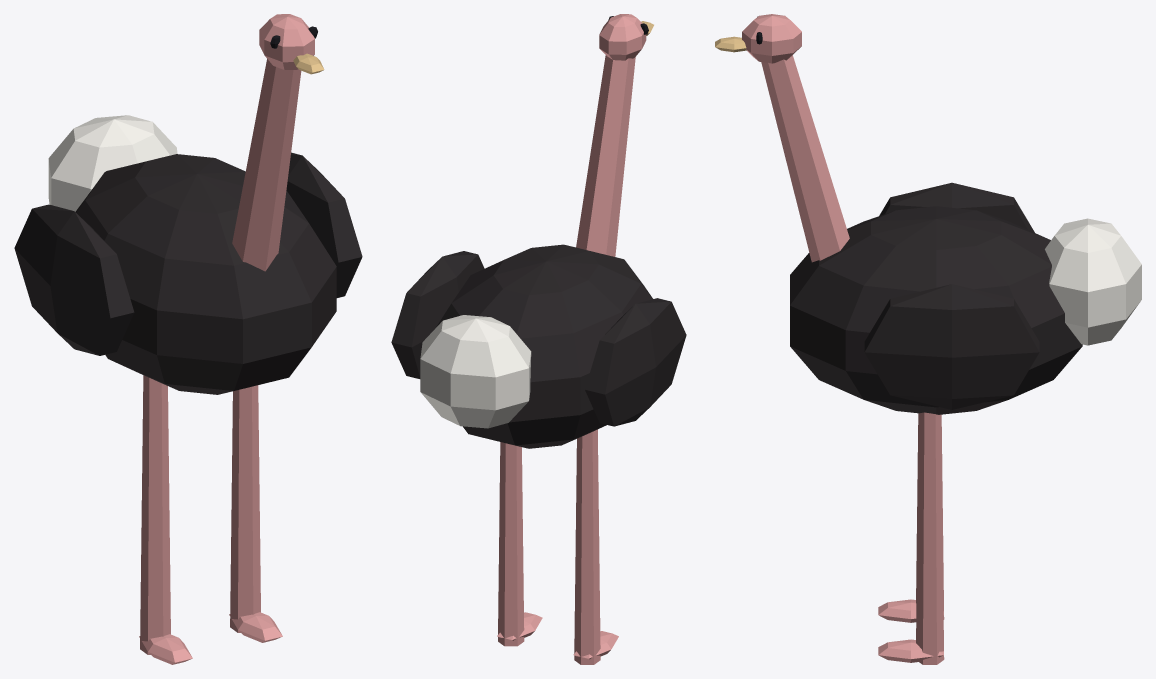
The model's file is animal_avestruz.glb.
3 renders of one model, left to right at view 1: azimuth 30°, elevation 25°; view 2: azimuth 150°, elevation 25°; view 3: azimuth 270°, elevation 25°, orthographic. The views are drawn at different scales.
Parts seen in each view (by area): view 1: body_ostrich_black, legs_ostrich_pink, neck_ostrich_pink, body_ostrich_white, head_ostrich_pink; view 2: body_ostrich_black, legs_ostrich_pink, body_ostrich_white, neck_ostrich_pink, head_ostrich_pink; view 3: body_ostrich_black, body_ostrich_white, legs_ostrich_pink, neck_ostrich_pink, head_ostrich_pink.
Boxes of the visible parts, left/top/right/bottom form: body_ostrich_black: left=14, top=152, right=362, bottom=394; legs_ostrich_pink: left=139, top=375, right=282, bottom=664; neck_ostrich_pink: left=232, top=59, right=301, bottom=271; body_ostrich_white: left=48, top=115, right=177, bottom=211; head_ostrich_pink: left=259, top=14, right=314, bottom=69; body_ostrich_black: left=391, top=244, right=686, bottom=448; legs_ostrich_pink: left=497, top=429, right=618, bottom=664; body_ostrich_white: left=420, top=315, right=531, bottom=428; neck_ostrich_pink: left=576, top=55, right=635, bottom=256; head_ostrich_pink: left=599, top=14, right=646, bottom=60; body_ostrich_black: left=790, top=182, right=1082, bottom=414; body_ostrich_white: left=1045, top=218, right=1141, bottom=345; legs_ostrich_pink: left=878, top=412, right=944, bottom=664; neck_ostrich_pink: left=761, top=55, right=849, bottom=262; head_ostrich_pink: left=742, top=14, right=801, bottom=63.
Bounding box in the file's own units: 0.92 × 2.18 × 1.35.
